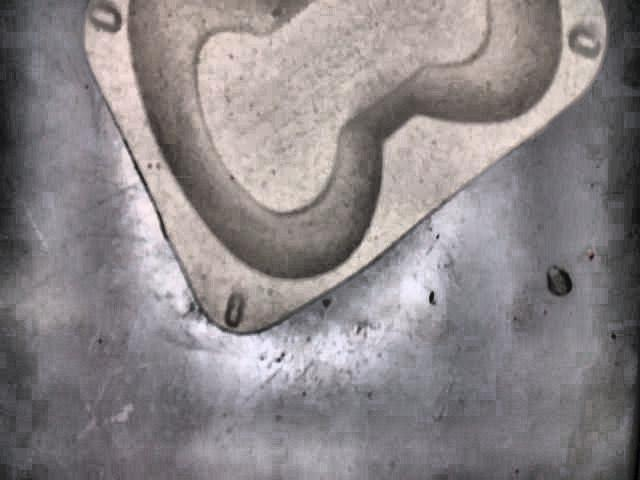Paper: (81, 2, 607, 337)
